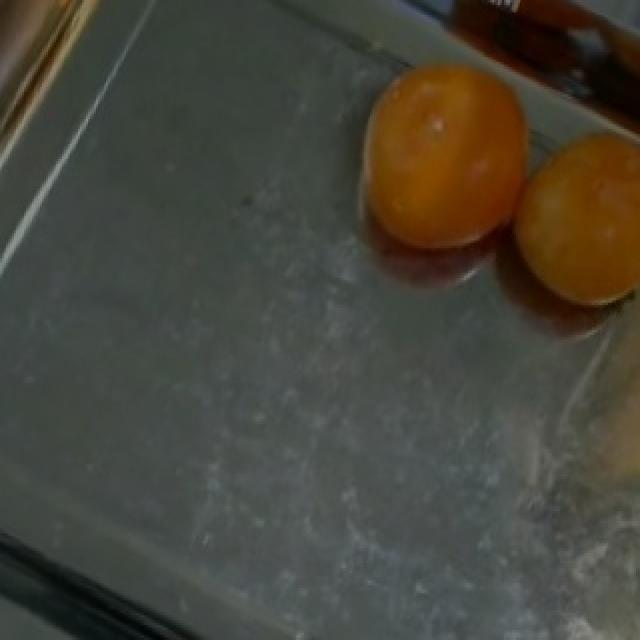Fruit: (334, 45, 558, 278), (490, 109, 638, 335)
